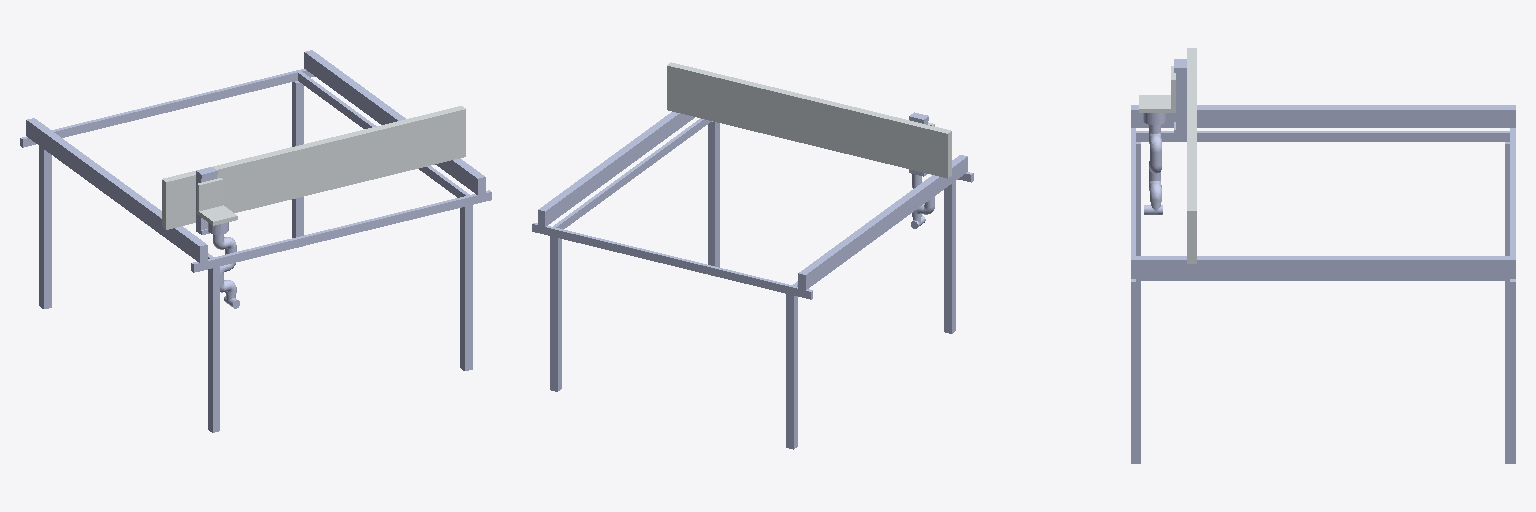
URDF robot description (mini_TREX_complete):
<?xml version="1.0" encoding="utf-8"?>
<!-- This URDF was automatically created by SolidWorks to URDF Exporter! Originally created by [author] ([email redacted]) 
     Commit Version: 1.6.0-4-g7f85cfe  Build Version: 1.6.7995.38578
     For more information, please see http://wiki.ros.org/sw_urdf_exporter -->
<robot
  name="mini_TREX_complete">
<link name="base_footprint">
    <visual>
        <origin xyz="0 0 0" rpy="0 0 0" />
        <geometry>
            <box size="0.001 0.001 0.001" />
        </geometry>
    </visual>
</link>

<joint name="base_footprint_joint" type="fixed">
    <origin xyz="0 0 0.001" rpy="0 0 0" />
    <parent link="base_footprint"/>
    <child link="base_link" />
</joint>
  <link
    name="base_link">
    <inertial>
      <origin
        xyz="0.71563 1.093 0.7213"
        rpy="0 0 0" />
      <mass
        value="19.498" />
      <inertia
        ixx="7.4094"
        ixy="-1.3444E-14"
        ixz="2.2885E-14"
        iyy="9.2813"
        iyz="-1.6175E-14"
        izz="14.559" />
    </inertial>
    <visual>
      <origin
        xyz="0 0 0"
        rpy="0 0 0" />
      <geometry>
        <mesh
          filename="package://test_urdf_mini_trex/meshes/visual/base_link.STL" />
      </geometry>
      <material
        name="">
        <color
          rgba="0.79216 0.81961 0.93333 1" />
      </material>
    </visual>
    <collision>
      <origin
        xyz="0 0 0"
        rpy="0 0 0" />
      <geometry>
        <mesh
          filename="package://test_urdf_mini_trex/meshes/visual/base_link.STL" />
      </geometry>
    </collision>
  </link>
  <link
    name="y_axis_link">
    <inertial>
      <origin
        xyz="-0.6945 -0.24 0.115"
        rpy="0 0 0" />
      <mass
        value="13.901" />
      <inertia
        ixx="0.063135"
        ixy="1.1276E-17"
        ixz="-1.8504E-17"
        iyy="2.7061"
        iyz="-3.8485E-19"
        izz="2.6467" />
    </inertial>
    <visual>
      <origin
        xyz="0 0 0"
        rpy="0 0 0" />
      <geometry>
        <mesh
          filename="package://test_urdf_mini_trex/meshes/visual/y_axis_link.STL" />
      </geometry>
      <material
        name="">
        <color
          rgba="0.89412 0.91373 0.92941 1" />
      </material>
    </visual>
    <collision>
      <origin
        xyz="0 0 0"
        rpy="0 0 0" />
      <geometry>
        <mesh
          filename="package://test_urdf_mini_trex/meshes/visual/y_axis_link.STL" />
      </geometry>
    </collision>
  </link>
  <joint
    name="y_axis_joint"
    type="prismatic">
    <origin
      xyz="0.015632 0.33748 0.8999"
      rpy="0 0 3.1416" />
    <parent
      link="base_link" />
    <child
      link="y_axis_link" />
    <axis
      xyz="0 1 0" />
    <limit
      lower="-1.24"
      upper="0"
      effort="3"
      velocity="3" />
  </joint>
  <link
    name="x_axis_link">
    <inertial>
      <origin
        xyz="-0.1905 -0.021667 0.085"
        rpy="0 0 0" />
      <mass
        value="1.008" />
      <inertia
        ixx="0.0076264"
        ixy="3.5899E-20"
        ixz="1.5455E-19"
        iyy="0.0080033"
        iyz="1.772E-19"
        izz="0.00069832" />
    </inertial>
    <visual>
      <origin
        xyz="0 0 0"
        rpy="0 0 0" />
      <geometry>
        <mesh
          filename="package://test_urdf_mini_trex/meshes/visual/x_axis_link.STL" />
      </geometry>
      <material
        name="">
        <color
          rgba="0.79216 0.81961 0.93333 1" />
      </material>
    </visual>
    <collision>
      <origin
        xyz="0 0 0"
        rpy="0 0 0" />
      <geometry>
        <mesh
          filename="package://test_urdf_mini_trex/meshes/visual/x_axis_link.STL" />
      </geometry>
    </collision>
  </link>
  <joint
    name="x_axis_joint"
    type="prismatic">
    <origin
      xyz="0.061 -0.22 0.19"
      rpy="3.1416 0 0" />
    <parent
      link="y_axis_link" />
    <child
      link="x_axis_link" />
    <axis
      xyz="1 0 0" />
    <limit
      lower="-1.05"
      upper="0"
      effort="3"
      velocity="3" />
  </joint>
  <link
    name="z_axis_link">
    <inertial>
      <origin
        xyz="1.7375E-14 -0.060565 0.14244"
        rpy="0 0 0" />
      <mass
        value="1.8225" />
      <inertia
        ixx="0.007026"
        ixy="1.5492E-19"
        ixz="7.9273E-19"
        iyy="0.005886"
        iyz="0.0020532"
        izz="0.005886" />
    </inertial>
    <visual>
      <origin
        xyz="0 0 0"
        rpy="0 0 0" />
      <geometry>
        <mesh
          filename="package://test_urdf_mini_trex/meshes/visual/z_axis_link.STL" />
      </geometry>
      <material
        name="">
        <color
          rgba="0.89804 0.91765 0.92941 1" />
      </material>
    </visual>
    <collision>
      <origin
        xyz="0 0 0"
        rpy="0 0 0" />
      <geometry>
        <mesh
          filename="package://test_urdf_mini_trex/meshes/visual/z_axis_link.STL" />
      </geometry>
    </collision>
  </link>
  <joint
    name="z_axis_joint"
    type="prismatic">
    <origin
      xyz="-0.1905 -0.025 -0.061"
      rpy="0 0 0" />
    <parent
      link="x_axis_link" />
    <child
      link="z_axis_link" />
    <axis
      xyz="0 0 -1" />
    <limit
      lower="-0.1"
      upper="0"
      effort="0"
      velocity="0" />
  </joint>
  <link
    name="fixed_base_manipulator">
    <inertial>
      <origin
        xyz="5.5511E-17 0 0.030575"
        rpy="0 0 0" />
      <mass
        value="0.38902" />
      <inertia
        ixx="0.00031816"
        ixy="5.5227E-21"
        ixz="1.358E-20"
        iyy="0.00031816"
        iyz="-3.1279E-20"
        izz="0.00039388" />
    </inertial>
    <visual>
      <origin
        xyz="0 0 0"
        rpy="0 0 0" />
      <geometry>
        <mesh
          filename="package://test_urdf_mini_trex/meshes/visual/fixed_base_manipulator.STL" />
      </geometry>
      <material
        name="">
        <color
          rgba="0.79216 0.81961 0.93333 1" />
      </material>
    </visual>
    <collision>
      <origin
        xyz="0 0 0"
        rpy="0 0 0" />
      <geometry>
        <mesh
          filename="package://test_urdf_mini_trex/meshes/visual/fixed_base_manipulator.STL" />
      </geometry>
    </collision>
  </link>
  <joint
    name="fixed_base_joint"
    type="fixed">
    <origin
      xyz="0 -0.0995 0.186"
      rpy="0 0 0" />
    <parent
      link="z_axis_link" />
    <child
      link="fixed_base_manipulator" />
    <axis
      xyz="0 0 0" />
  </joint>
  <link
    name="link_1">
    <inertial>
      <origin
        xyz="-0.00471591007394795 0.000327841802531925 0.0449329912291735"
        rpy="0 0 0" />
      <mass
        value="0.182388908186938" />
      <inertia
        ixx="0.000144569969287715"
        ixy="6.05000994865696E-07"
        ixz="2.35810769770445E-05"
        iyy="0.000153230676050563"
        iyz="-1.63931513972334E-06"
        izz="6.57413577887617E-05" />
    </inertial>
    <visual>
      <origin
        xyz="0 0 0"
        rpy="0 0 0" />
      <geometry>
        <mesh
          filename="package://test_urdf_mini_trex/meshes/visual/link_1.STL" />
      </geometry>
      <material
        name="">
        <color
          rgba="0.792156862745098 0.819607843137255 0.933333333333333 1" />
      </material>
    </visual>
    <collision>
      <origin
        xyz="0 0 0"
        rpy="0 0 0" />
      <geometry>
        <mesh
          filename="package://test_urdf_mini_trex/meshes/visual/link_1.STL" />
      </geometry>
    </collision>
  </link>
  <joint
    name="joint_1"
    type="revolute">
    <origin
      xyz="0 0 0.06115"
      rpy="0 0 0" />
    <parent
      link="fixed_base_manipulator" />
    <child
      link="link_1" />
    <axis
      xyz="0 0 -1" />
    <limit
      lower="-2.88"
      upper="2.88"
      effort="0"
      velocity="0" />
  </joint>
  <link
    name="link_2">
    <inertial>
      <origin
        xyz="-0.02339 0.001626 0.0552"
        rpy="0 0 0" />
      <mass
        value="0.30501" />
      <inertia
        ixx="0.00059723"
        ixy="1.0995E-06"
        ixz="2.2849E-16"
        iyy="0.00061297"
        iyz="3.277E-15"
        izz="0.00011121" />
    </inertial>
    <visual>
      <origin
        xyz="0 0 0"
        rpy="0 0 0" />
      <geometry>
        <mesh
          filename="package://test_urdf_mini_trex/meshes/visual/link_2.STL" />
      </geometry>
      <material
        name="">
        <color
          rgba="0.79216 0.81961 0.93333 1" />
      </material>
    </visual>
    <collision>
      <origin
        xyz="0 0 0"
        rpy="0 0 0" />
      <geometry>
        <mesh
          filename="package://test_urdf_mini_trex/meshes/visual/link_2.STL" />
      </geometry>
    </collision>
  </link>
  <joint
    name="joint_2"
    type="revolute">
    <origin
      xyz="-0.03721 0.0025868 0.07042"
      rpy="0 0 0" />
    <parent
      link="link_1" />
    <child
      link="link_2" />
    <axis
      xyz="0.99759 -0.069351 0" />
    <limit
      lower="-2.88"
      upper="2.88"
      effort="0"
      velocity="0" />
  </joint>
  <link
    name="link_3">
    <inertial>
      <origin
        xyz="0.022814 -0.001586 0.048"
        rpy="0 0 0" />
      <mass
        value="0.27673" />
      <inertia
        ixx="0.0004455"
        ixy="1.0306E-06"
        ixz="-1.1234E-16"
        iyy="0.00046025"
        iyz="-1.6243E-15"
        izz="0.00010138" />
    </inertial>
    <visual>
      <origin
        xyz="0 0 0"
        rpy="0 0 0" />
      <geometry>
        <mesh
          filename="package://test_urdf_mini_trex/meshes/visual/link_3.STL" />
      </geometry>
      <material
        name="">
        <color
          rgba="0.79216 0.81961 0.93333 1" />
      </material>
    </visual>
    <collision>
      <origin
        xyz="0 0 0"
        rpy="0 0 0" />
      <geometry>
        <mesh
          filename="package://test_urdf_mini_trex/meshes/visual/link_3.STL" />
      </geometry>
    </collision>
  </link>
  <joint
    name="joint_3"
    type="revolute">
    <origin
      xyz="0.0081803 -0.00056868 0.1104"
      rpy="0 0 0" />
    <parent
      link="link_2" />
    <child
      link="link_3" />
    <axis
      xyz="-0.99759 0.069351 0" />
    <limit
      lower="-2.88"
      upper="2.88"
      effort="0"
      velocity="0" />
  </joint>
  <link
    name="link_4">
    <inertial>
      <origin
        xyz="-0.022018 0.0015306 0.011013"
        rpy="0 0 0" />
      <mass
        value="0.12266" />
      <inertia
        ixx="5.2157E-05"
        ixy="4.6769E-07"
        ixz="1.1132E-05"
        iyy="5.8852E-05"
        iyz="-7.7386E-07"
        izz="4.5091E-05" />
    </inertial>
    <visual>
      <origin
        xyz="0 0 0"
        rpy="0 0 0" />
      <geometry>
        <mesh
          filename="package://test_urdf_mini_trex/meshes/visual/link_4.STL" />
      </geometry>
      <material
        name="">
        <color
          rgba="0.79216 0.81961 0.93333 1" />
      </material>
    </visual>
    <collision>
      <origin
        xyz="0 0 0"
        rpy="0 0 0" />
      <geometry>
        <mesh
          filename="package://test_urdf_mini_trex/meshes/visual/link_4.STL" />
      </geometry>
    </collision>
  </link>
  <joint
    name="joint_4"
    type="revolute">
    <origin
      xyz="-0.0081803 0.00056868 0.096"
      rpy="0 0 0" />
    <parent
      link="link_3" />
    <child
      link="link_4" />
    <axis
      xyz="0.99759 -0.069351 0" />
    <limit
      lower="-2.88"
      upper="2.88"
      effort="0"
      velocity="0" />
  </joint>
  <link
    name="link_5">
    <inertial>
      <origin
        xyz="-3.6148E-05 -0.0022159 0.038564"
        rpy="0 0 0" />
      <mass
        value="0.10207" />
      <inertia
        ixx="4.8734E-05"
        ixy="-2.3925E-07"
        ixz="2.6298E-08"
        iyy="3.4054E-05"
        iyz="1.6139E-06"
        izz="3.5955E-05" />
    </inertial>
    <visual>
      <origin
        xyz="0 0 0"
        rpy="0 0 0" />
      <geometry>
        <mesh
          filename="package://test_urdf_mini_trex/meshes/visual/link_5.STL" />
      </geometry>
      <material
        name="">
        <color
          rgba="0.79216 0.81961 0.93333 1" />
      </material>
    </visual>
    <collision>
      <origin
        xyz="0 0 0"
        rpy="0 0 0" />
      <geometry>
        <mesh
          filename="package://test_urdf_mini_trex/meshes/visual/link_5.STL" />
      </geometry>
    </collision>
  </link>
  <joint
    name="joint_5"
    type="revolute">
    <origin
      xyz="-0.02903 0.0020181 0.0325"
      rpy="0 0 0" />
    <parent
      link="link_4" />
    <child
      link="link_5" />
    <axis
      xyz="0 0 -1" />
    <limit
      lower="-2.88"
      upper="2.88"
      effort="0"
      velocity="0" />
  </joint>
  <link
    name="link_6">
    <inertial>
      <origin
        xyz="-0.00010996 -0.0067491 1.1102E-16"
        rpy="0 0 0" />
      <mass
        value="0.016965" />
      <inertia
        ixx="1.9545E-06"
        ixy="2.3436E-08"
        ixz="-9.6566E-25"
        iyy="3.3925E-06"
        iyz="-5.9268E-23"
        izz="1.9541E-06" />
    </inertial>
    <visual>
      <origin
        xyz="0 0 0"
        rpy="0 0 0" />
      <geometry>
        <mesh
          filename="package://test_urdf_mini_trex/meshes/visual/link_6.STL" />
      </geometry>
      <material
        name="">
        <color
          rgba="0.79216 0.81961 0.93333 1" />
      </material>
    </visual>
    <collision>
      <origin
        xyz="0 0 0"
        rpy="0 0 0" />
      <geometry>
        <mesh
          filename="package://test_urdf_mini_trex/meshes/visual/link_6.STL" />
      </geometry>
    </collision>
  </link>
  <joint
    name="joint_6"
    type="revolute">
    <origin
      xyz="-0.0005376 -0.032996 0.0457"
      rpy="0 0 0" />
    <parent
      link="link_5" />
    <child
      link="link_6" />
    <axis
      xyz="-0.016291 -0.99987 0" />
    <limit
      lower="-3.14"
      upper="3.14"
      effort="0"
      velocity="0" />
  </joint>
</robot>

--- Render facts (derived) ---
The picture shows the robot from 3 angles, left to right: view 1: azimuth 30°, elevation 25°; view 2: azimuth 150°, elevation 25°; view 3: azimuth 270°, elevation 25°; orthographic projection.
Model mini_TREX_complete with 12 links and 11 joints (6 revolute, 3 prismatic, 2 fixed), rooted at base_footprint, posed all joints at 0.
Links seen in each view (by area): view 1: base_link, y_axis_link, z_axis_link; view 2: base_link, y_axis_link; view 3: base_link, y_axis_link, x_axis_link, z_axis_link.
Boxes of the visible links, box(x1,y1,x2,y2) form: base_link: box(20, 50, 491, 432); y_axis_link: box(162, 106, 465, 229); z_axis_link: box(197, 178, 237, 225); base_link: box(532, 112, 973, 449); y_axis_link: box(667, 62, 951, 178); base_link: box(1131, 105, 1515, 463); y_axis_link: box(1187, 48, 1196, 263); x_axis_link: box(1174, 59, 1186, 134); z_axis_link: box(1139, 66, 1175, 112).
Bounding box of the posed robot: 1.51 × 1.85 × 1.16 m (x, y, z).
11 mesh visuals loaded from 11 distinct referenced files (11 binary STL).